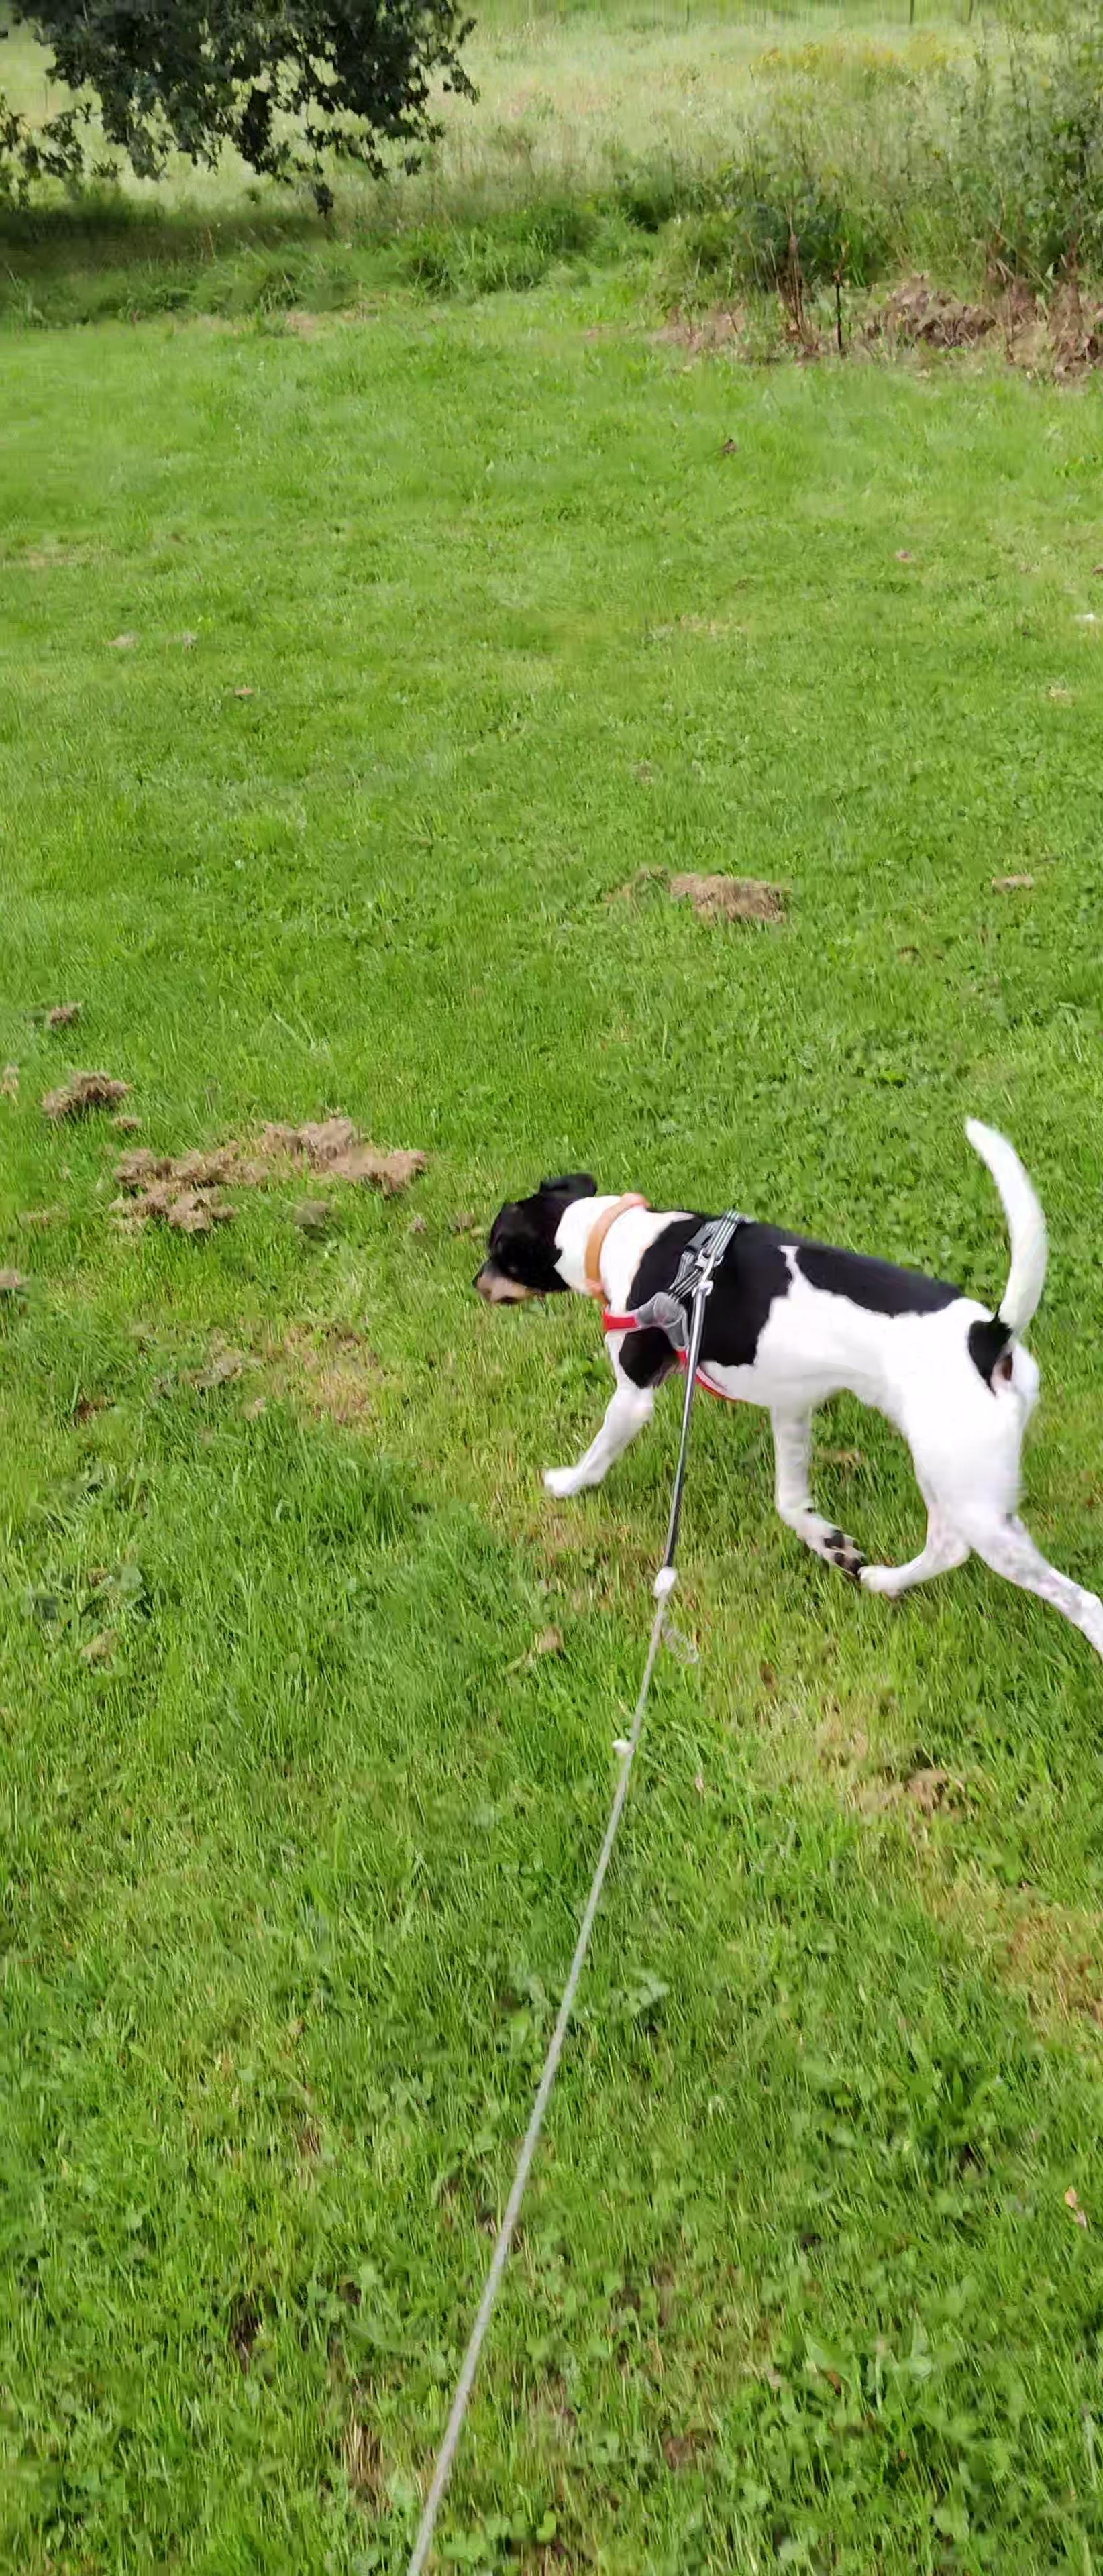Dog: (459, 1086, 1103, 1694)
